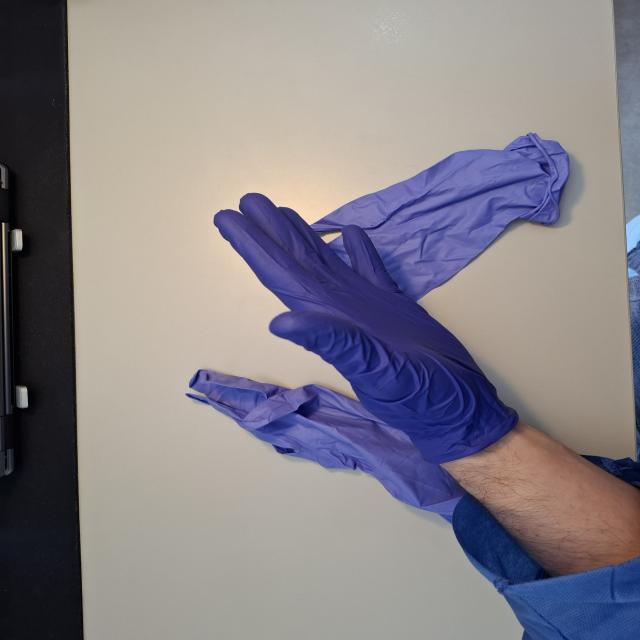glove_on: (210, 190, 507, 460)
